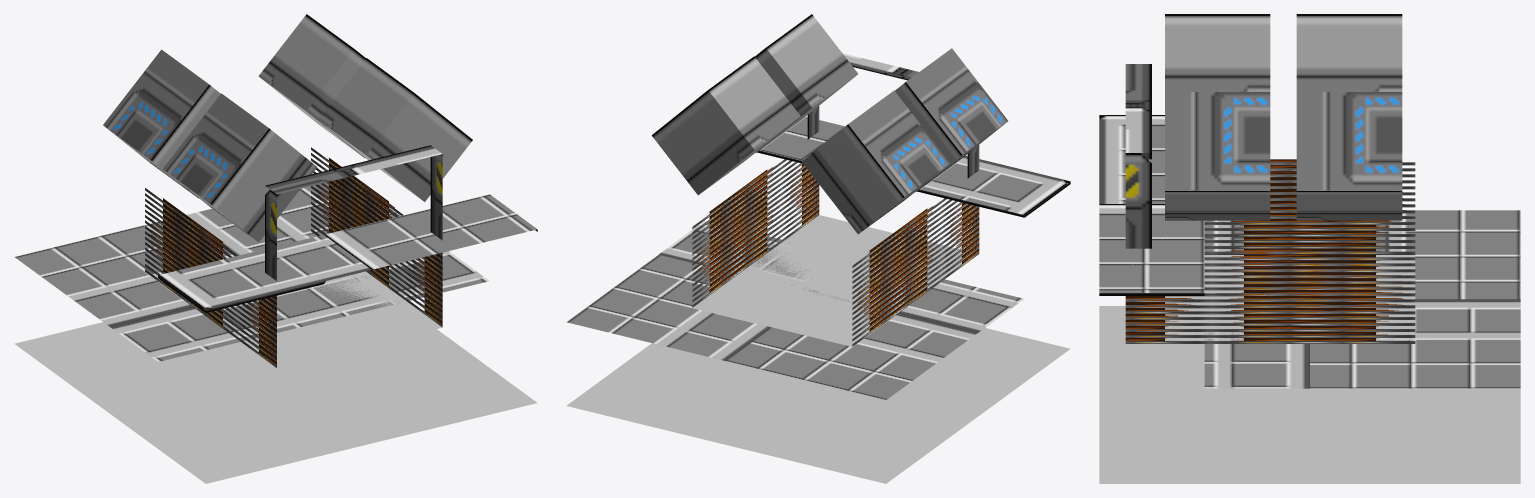
The model's file is stirling_generator_empty_working.obj.
3 views of the same model, side by side, from view 1: azimuth 30°, elevation 25°; view 2: azimuth 150°, elevation 25°; view 3: azimuth 270°, elevation 25° (orthographic). The views are drawn at different scales.
Visible parts, largest first — view 1: base, engine_base, cylinder2, cylinder4, cylinder1, cylinder3; view 2: base, engine_base, cylinder1, cylinder3, cylinder2, cylinder4; view 3: base, engine_base, cylinder3, cylinder4, cylinder1, cylinder2.
Part boxes in pixels (bbox=[...]): base: bbox=[14, 182, 537, 483]; engine_base: bbox=[145, 145, 442, 367]; cylinder2: bbox=[163, 93, 317, 242]; cylinder4: bbox=[318, 58, 472, 201]; cylinder1: bbox=[103, 49, 220, 198]; cylinder3: bbox=[258, 14, 365, 157]; base: bbox=[566, 116, 1070, 483]; engine_base: bbox=[692, 53, 979, 346]; cylinder1: bbox=[801, 90, 950, 234]; cylinder3: bbox=[652, 56, 800, 195]; cylinder2: bbox=[895, 48, 1007, 191]; cylinder4: bbox=[755, 14, 857, 152]; base: bbox=[1099, 115, 1520, 483]; engine_base: bbox=[1125, 64, 1415, 343]; cylinder3: bbox=[1296, 92, 1402, 220]; cylinder4: bbox=[1165, 92, 1270, 220]; cylinder1: bbox=[1296, 14, 1402, 91]; cylinder2: bbox=[1165, 14, 1270, 91].
Size of the model in its own units: 2 by 1.79 by 2.
